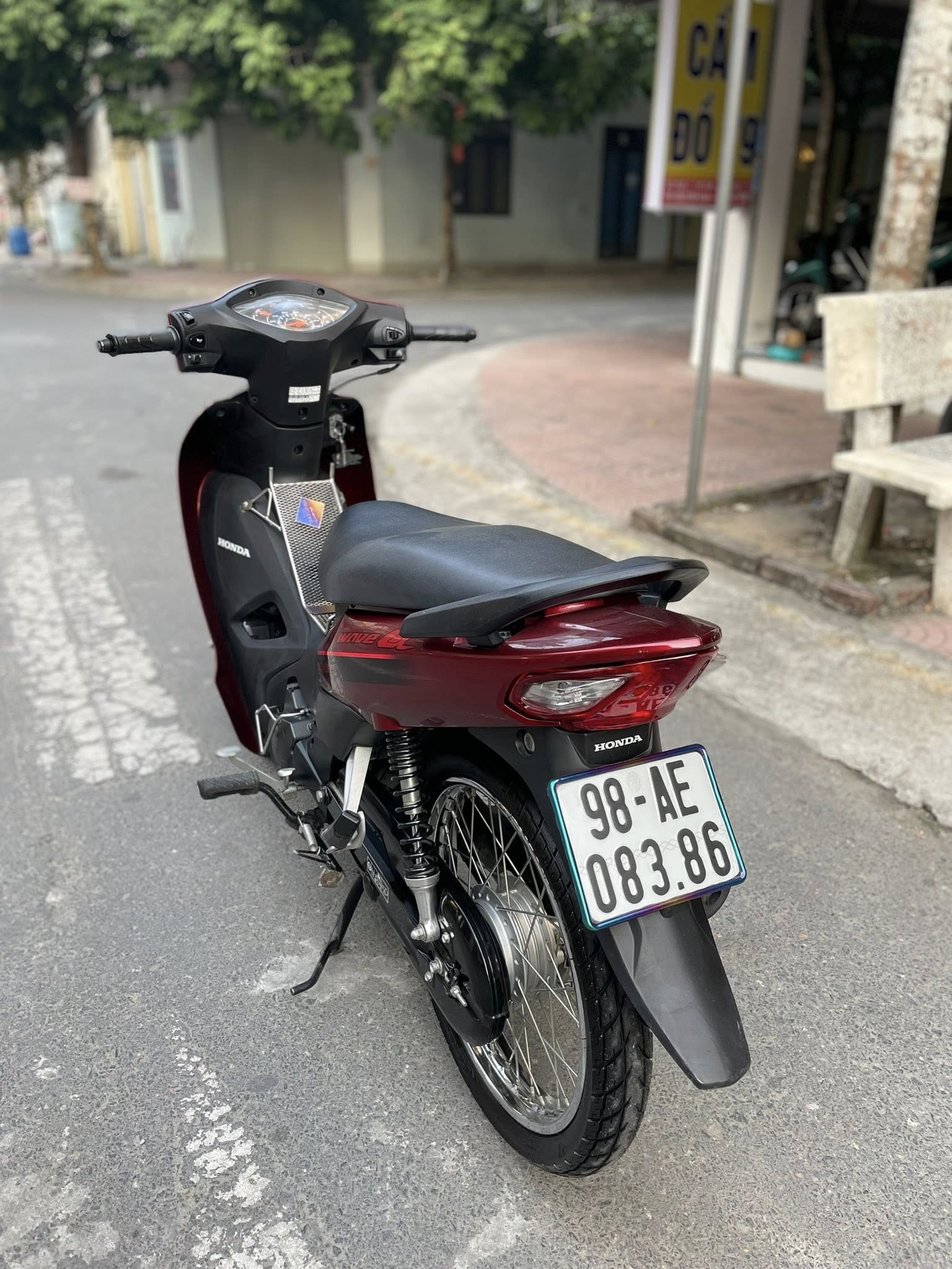bien_so: (538, 734, 770, 939)
